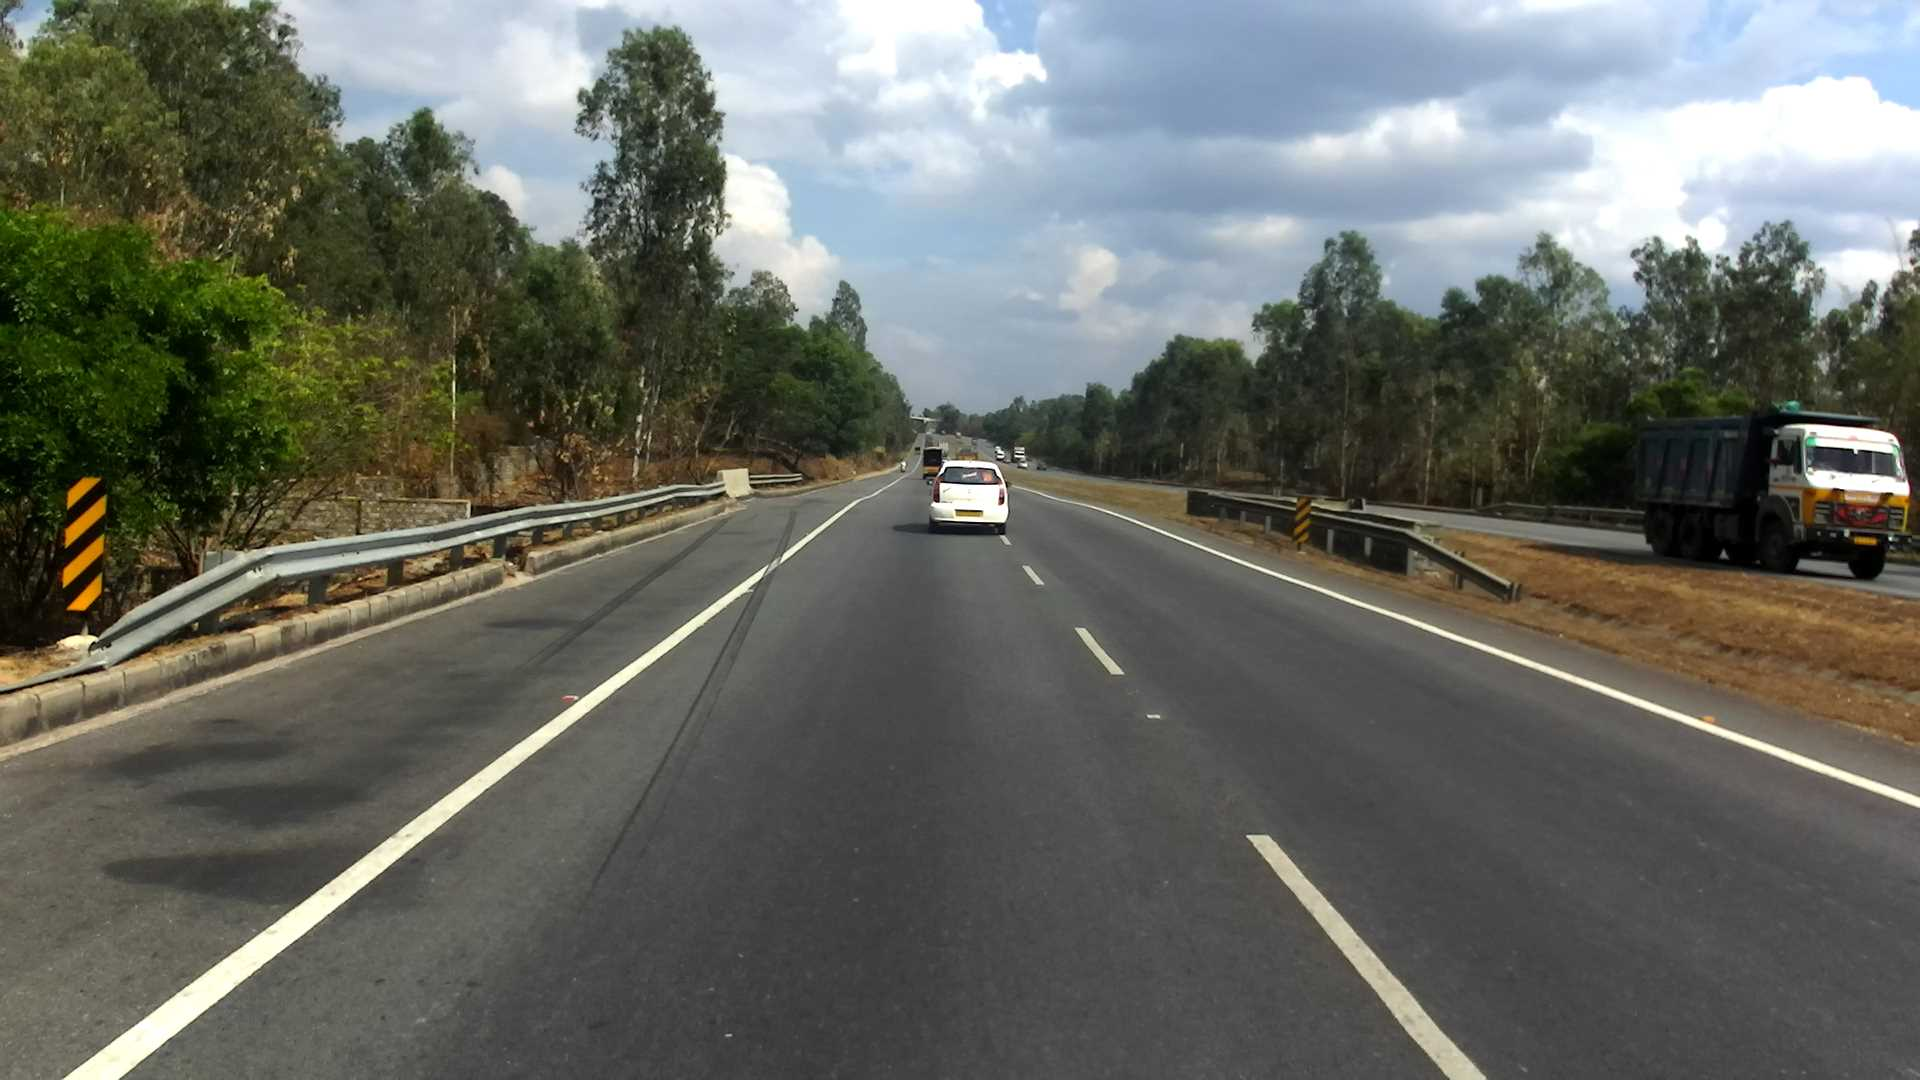bike: (883, 446, 915, 482)
car: (924, 439, 1028, 543)
truck: (1618, 376, 1920, 598), (919, 442, 956, 487), (1000, 437, 1014, 467)
